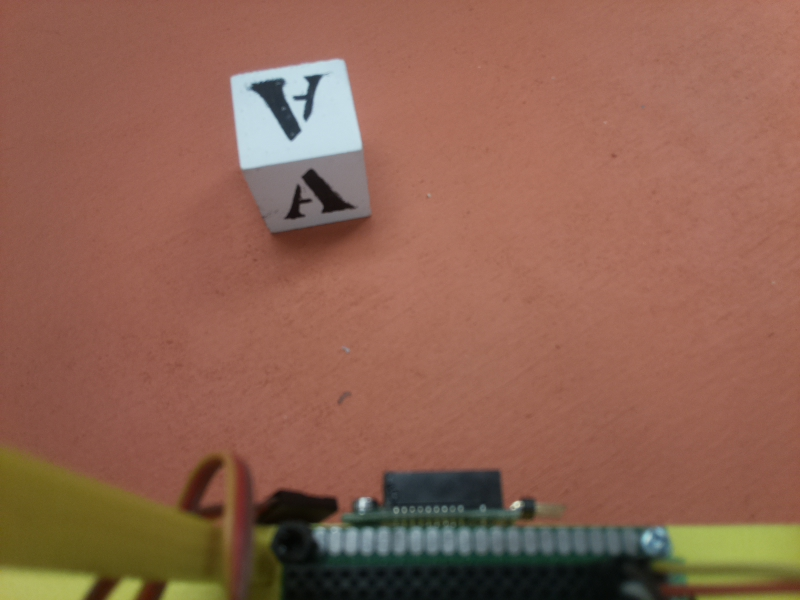blockA: (225, 57, 374, 237)
